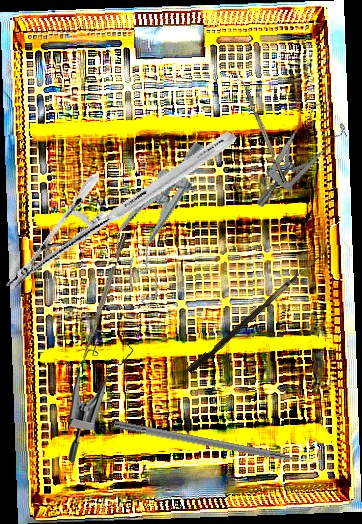Chopper: (78, 232, 134, 367), (235, 76, 287, 186)
Hook Surgical: (186, 241, 330, 377), (112, 420, 319, 470)
Needle Holder: (4, 73, 238, 349)
Speculum: (97, 128, 216, 308), (228, 96, 361, 210), (65, 328, 135, 464)
